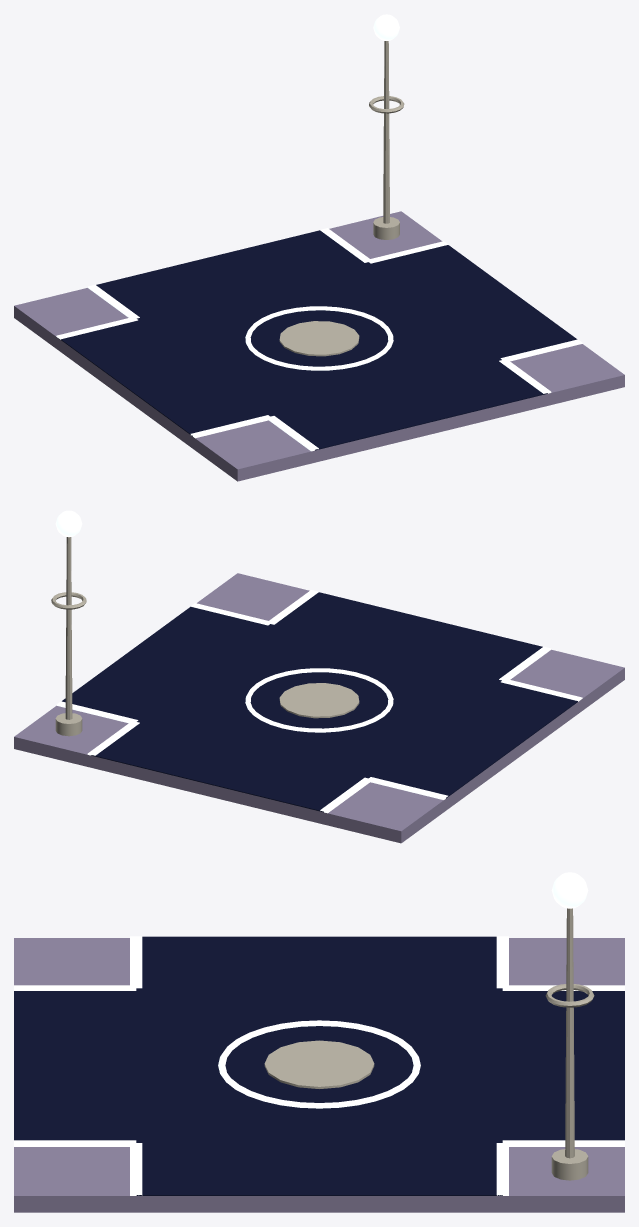
Rendered from lane_crossing.glb.
3 views of the same model, one above another, from view 1: azimuth 30°, elevation 25°; view 2: azimuth 150°, elevation 25°; view 3: azimuth 270°, elevation 25° (orthographic). The views are drawn at different scales.
Parts seen in each view (by area): view 1: lane_crossing; view 2: lane_crossing; view 3: lane_crossing.
Part boxes in pixels (x1,y1,x2,y2): lane_crossing: (14, 14, 624, 481); lane_crossing: (14, 510, 624, 843); lane_crossing: (14, 872, 624, 1212).
Size of the model in its own units: 10 by 5.7 by 10.
